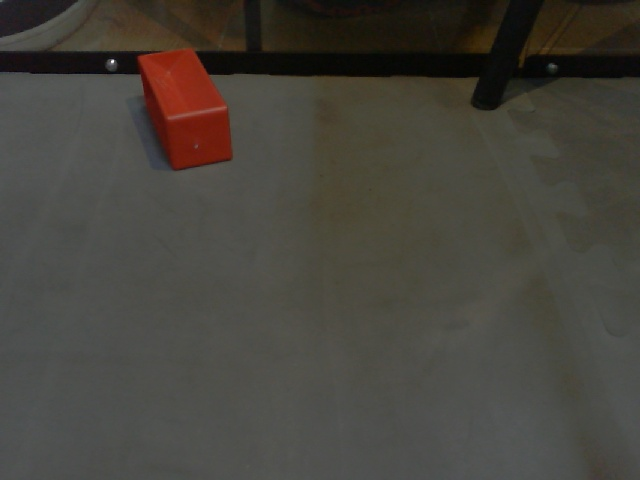RedSample: (136, 48, 235, 170)
